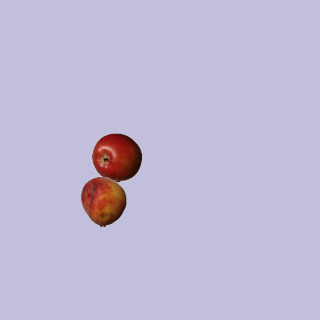Apple Braeburn: (91, 132, 141, 182)
Peach: (78, 176, 128, 226)
